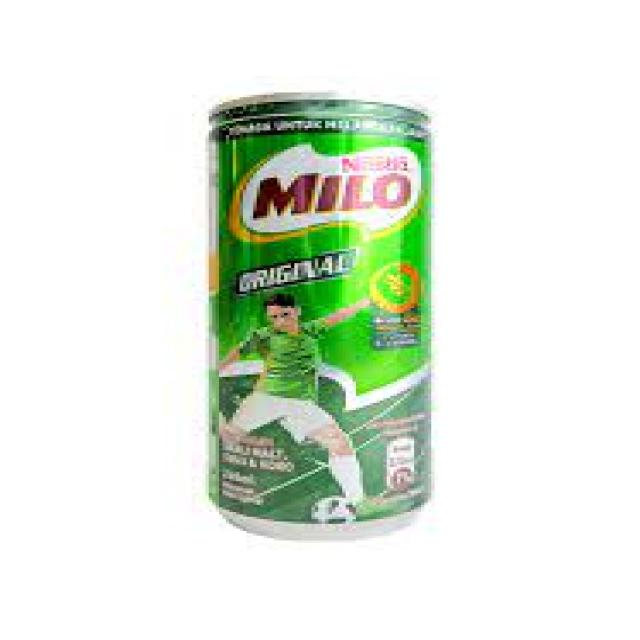Cans: (188, 85, 448, 543)
